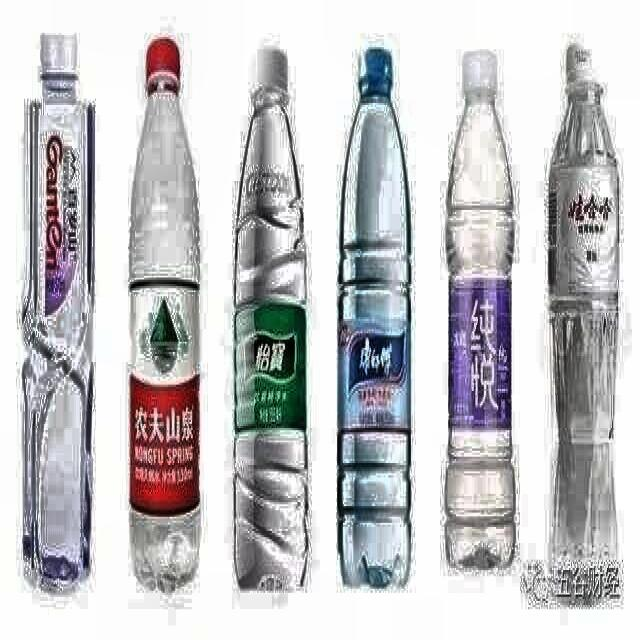Bottles: (227, 31, 317, 610), (18, 13, 102, 603), (337, 31, 419, 602), (123, 26, 204, 598), (442, 6, 519, 592), (544, 27, 623, 567)
